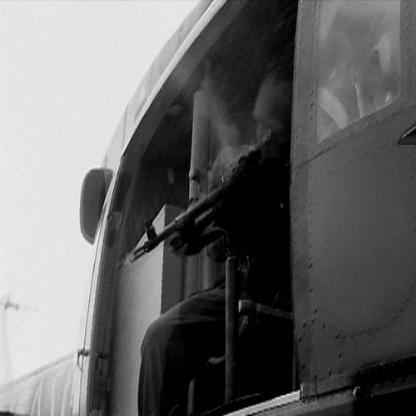Gun: (128, 153, 268, 269)
